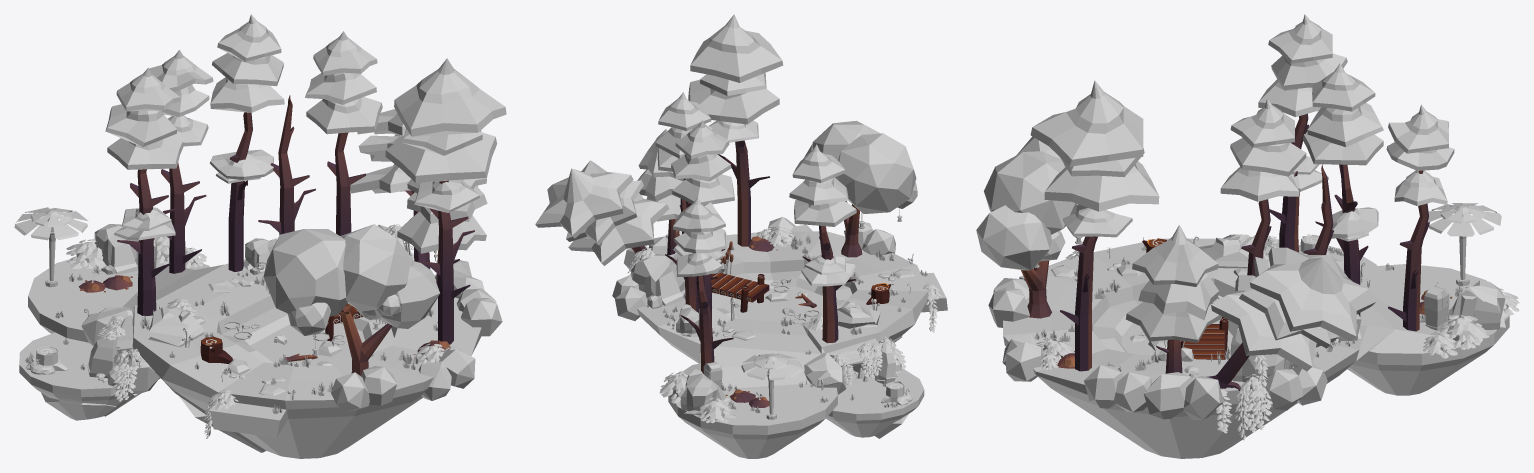
Rendered from Terrain_TerrariumFinal.fbx.
3 views of the same model, side by side, from view 1: azimuth 30°, elevation 25°; view 2: azimuth 150°, elevation 25°; view 3: azimuth 270°, elevation 25° (orthographic). The views are drawn at different scales.
Parts seen in each view (by area): view 1: Terrarium, BushyTreeLeaves, TolTreeTrunk4, TolTreeTrunk2, TolTreeTrunk3, TolTreeTrunk5, Round Bushes, TolTreeTrunk1, PineTreeLeaves, BrokenTreeLeaves, Bush (1).001, Cylinder (+11 smaller); view 2: Terrarium, TolTreeTrunk4, BrokenTreeLeaves, BushyTreeLeaves, TolTreeTrunk2, TolTreeTrunk1, TolTreeTrunk3, Round Bushes, TolTreeTrunk5, Bush (1).001, Big Rock2, PineTreeLeaves (+11 smaller); view 3: Terrarium, TolTreeTrunk4, BrokenTreeLeaves, Round Bushes, BushyTreeLeaves, TolTreeTrunk3, PineTreeLeaves, TolTreeTrunk2, TolTreeTrunk5, TolTreeTrunk1, Bush (1).001, Cylinder (+13 smaller).
Part boxes in pixels (left/top/right/bottom): Terrarium: left=19, top=257, right=481, bottom=458; BushyTreeLeaves: left=263, top=224, right=439, bottom=335; TolTreeTrunk4: left=385, top=58, right=506, bottom=344; TolTreeTrunk2: left=105, top=67, right=183, bottom=315; TolTreeTrunk3: left=210, top=14, right=284, bottom=271; TolTreeTrunk5: left=305, top=31, right=382, bottom=235; Round Bushes: left=331, top=244, right=502, bottom=411; TolTreeTrunk1: left=149, top=50, right=213, bottom=273; PineTreeLeaves: left=397, top=178, right=487, bottom=253; BrokenTreeLeaves: left=350, top=109, right=481, bottom=193; Bush (1).001: left=66, top=236, right=461, bottom=363; Cylinder: left=14, top=207, right=87, bottom=287; Terrarium: left=636, top=231, right=947, bottom=458; TolTreeTrunk4: left=688, top=14, right=783, bottom=246; BrokenTreeLeaves: left=535, top=160, right=669, bottom=265; BushyTreeLeaves: left=804, top=120, right=917, bottom=213; TolTreeTrunk2: left=789, top=144, right=856, bottom=343; TolTreeTrunk1: left=673, top=197, right=733, bottom=373; TolTreeTrunk3: left=671, top=120, right=734, bottom=340; Round Bushes: left=612, top=217, right=895, bottom=320; TolTreeTrunk5: left=655, top=92, right=713, bottom=207; Bush (1).001: left=659, top=226, right=822, bottom=423; Big Rock2: left=631, top=252, right=685, bottom=306; PineTreeLeaves: left=637, top=129, right=683, bottom=221; Terrarium: left=1003, top=235, right=1509, bottom=458; TolTreeTrunk4: left=1030, top=80, right=1159, bottom=371; BrokenTreeLeaves: left=1211, top=247, right=1376, bottom=371; Round Bushes: left=988, top=278, right=1327, bottom=419; BushyTreeLeaves: left=976, top=136, right=1087, bottom=270; TolTreeTrunk3: left=1302, top=63, right=1383, bottom=316; PineTreeLeaves: left=1125, top=225, right=1221, bottom=342; TolTreeTrunk2: left=1258, top=14, right=1347, bottom=252; TolTreeTrunk5: left=1220, top=98, right=1306, bottom=275; TolTreeTrunk1: left=1386, top=104, right=1454, bottom=331; Bush (1).001: left=1035, top=253, right=1519, bottom=369; Cylinder: left=1427, top=203, right=1501, bottom=286.
Bounding box in the file's own units: 1080 × 902 × 1081.
